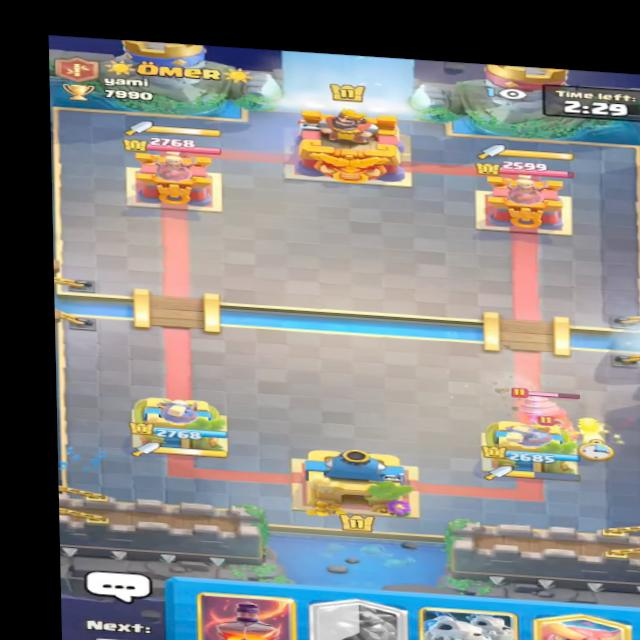goblin-drill: (507, 384, 589, 439)
